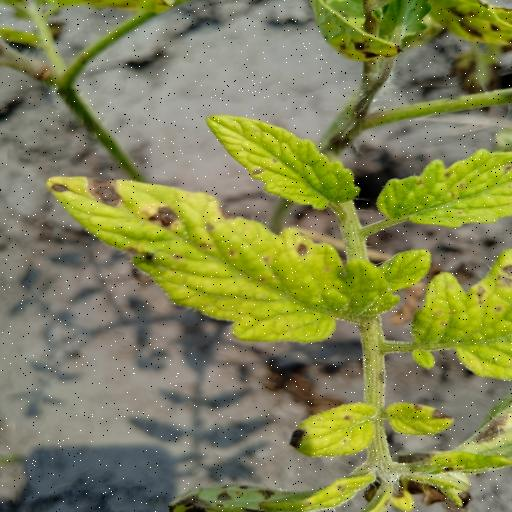Tomato_Brown_Spots: (43, 169, 392, 347), (214, 111, 359, 211), (368, 142, 512, 229)
